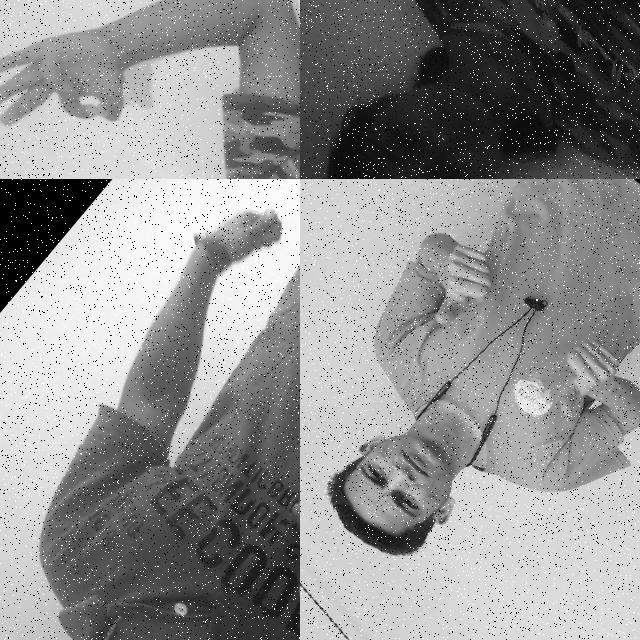Okay: (0, 0, 181, 179)
Reversed Victory: (459, 0, 640, 44)
Thumbs Up: (401, 229, 513, 343), (526, 322, 636, 434), (240, 441, 300, 640)
